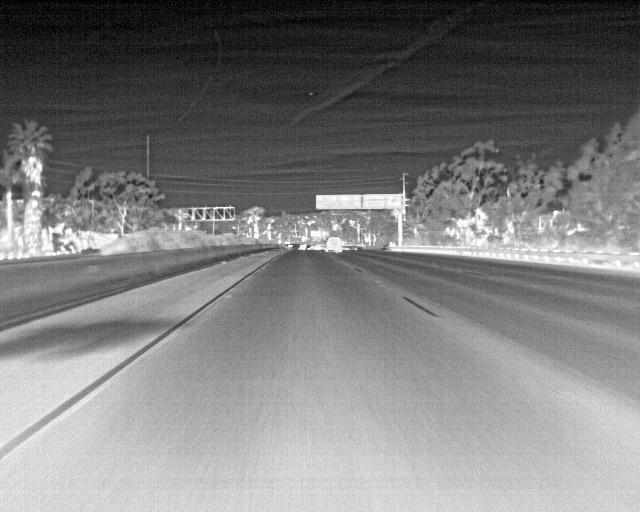car: (324, 236, 341, 252)
